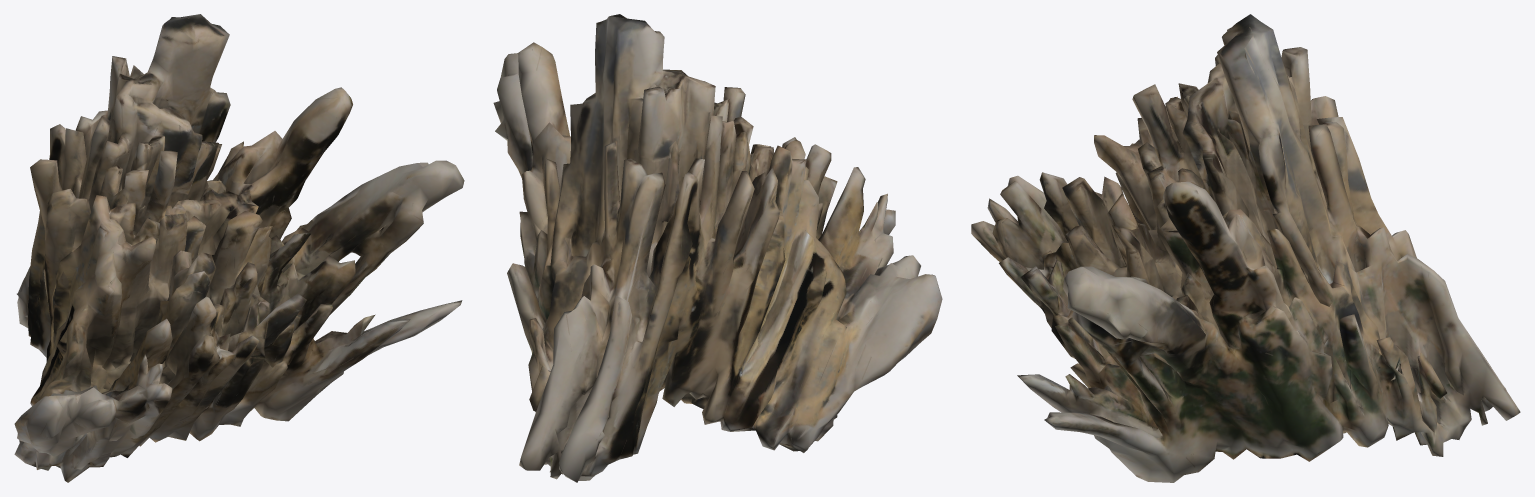
Rendered from iron.glb.
3 views of the same model, side by side, from view 1: azimuth 30°, elevation 25°; view 2: azimuth 150°, elevation 25°; view 3: azimuth 270°, elevation 25° (orthographic). The views are drawn at different scales.
Bounding box in the file's own units: 1.98 × 1.77 × 1.94.
Materials: 1 (1 with a texture image).
